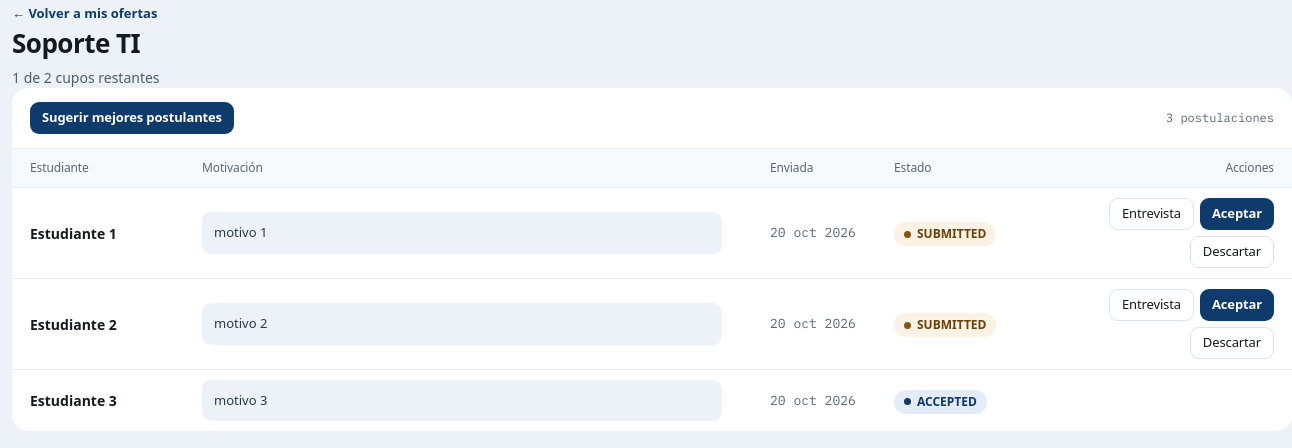
it: OfferApplicationsPage · sugerir mejores postulantes (IA-02) › no muestra afinidad en postulaciones que ya no se pueden decidir
Click the button "Sugerir mejores postulantes": coordinates (132, 118) [30,102,234,134]
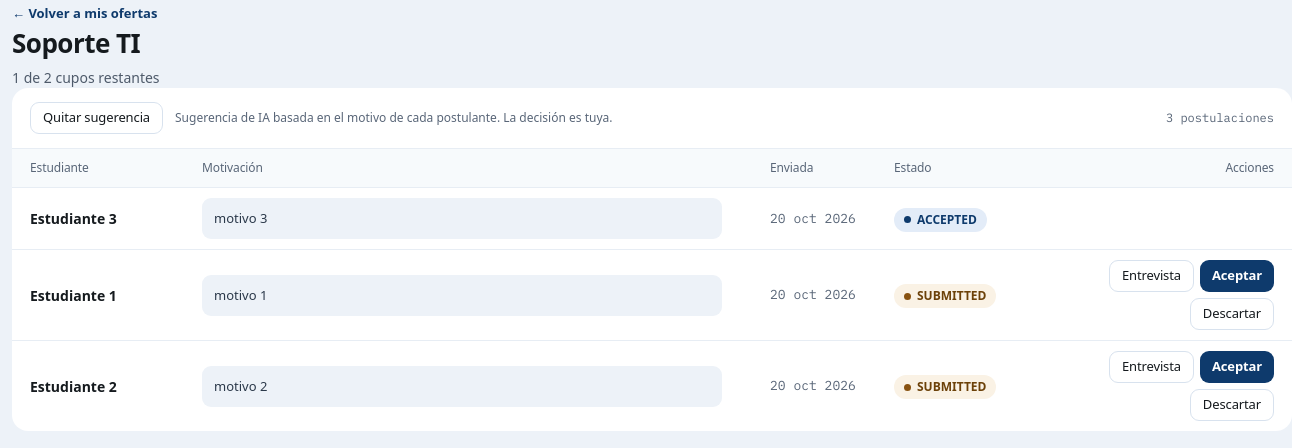
Now the text "La decisión es tuya" is shown, box [175,109,612,126]
